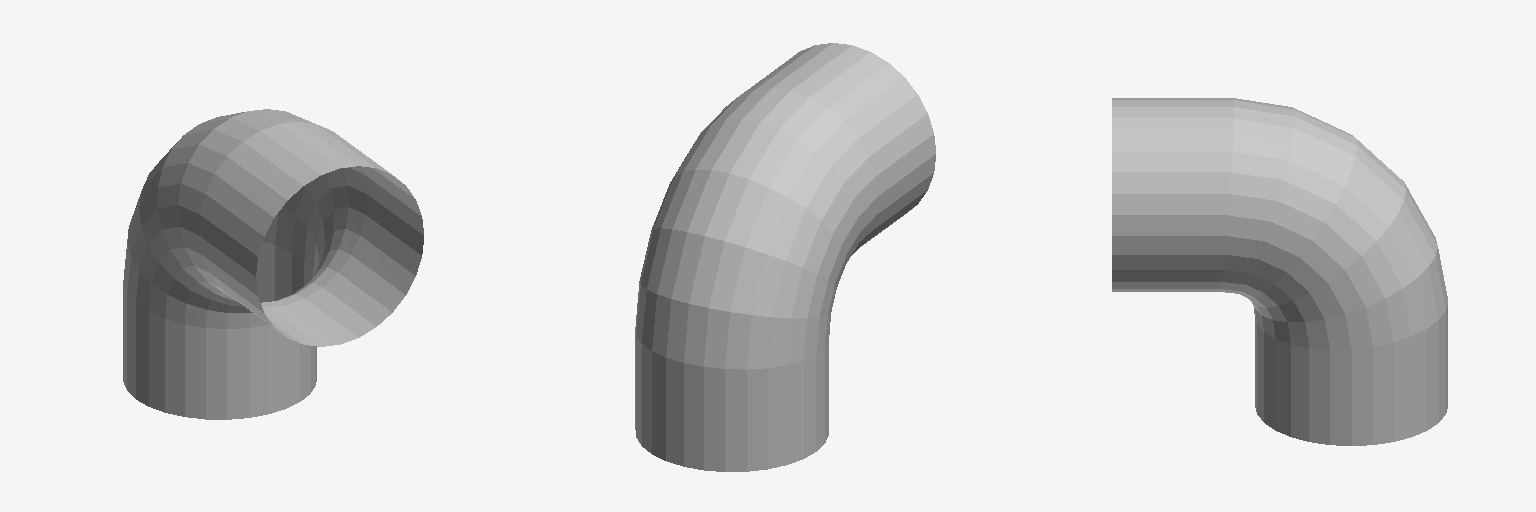
Rendered from HALF_TUBEINTERIOR.obj.
3 renders of one model, left to right at view 1: azimuth 30°, elevation 25°; view 2: azimuth 150°, elevation 25°; view 3: azimuth 270°, elevation 25°, orthographic.
Parts seen in each view (by area): view 1: HALF_TUBEINTERIOR; view 2: HALF_TUBEINTERIOR; view 3: HALF_TUBEINTERIOR.
Boxes of the visible parts, x1=… form: HALF_TUBEINTERIOR: x1=123, y1=109, x2=423, y2=419; HALF_TUBEINTERIOR: x1=635, y1=43, x2=935, y2=471; HALF_TUBEINTERIOR: x1=1112, y1=98, x2=1447, y2=445.
Bounding box in the file's own units: 0.5 × 0.8466 × 0.8665.